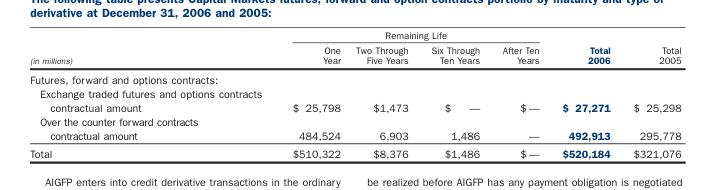table: (29, 28, 680, 158)
table column: (29, 28, 276, 158), (347, 28, 419, 158), (276, 28, 347, 158), (419, 28, 490, 158), (550, 28, 621, 158), (490, 28, 550, 158), (621, 28, 680, 158)
table column header: (29, 28, 680, 69)
table projected row header: (29, 69, 680, 86)
table row: (29, 113, 680, 143), (29, 41, 680, 69), (29, 86, 680, 113), (29, 69, 680, 86), (29, 143, 680, 158), (29, 28, 680, 41)
table spanning cell: (29, 28, 276, 69), (276, 28, 550, 41), (550, 28, 621, 69), (621, 28, 680, 69)
